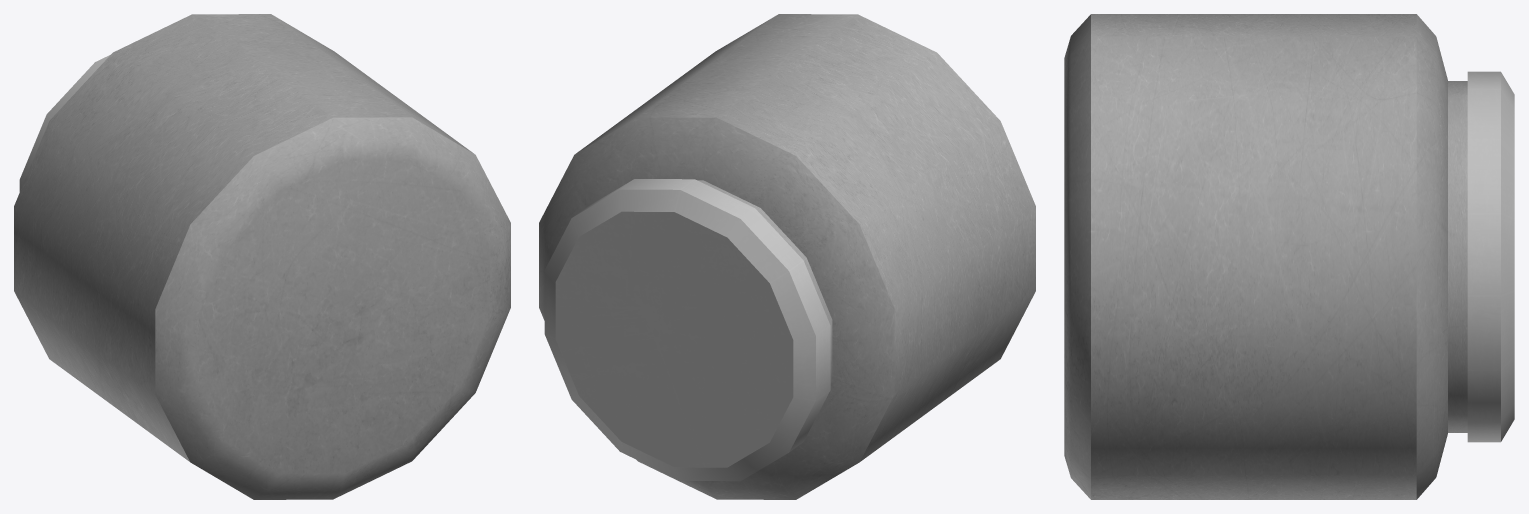
File: Fixed_Item_Bottle Wide2_Ver1.fbx
The picture shows the model from 3 angles, left to right: view 1: azimuth 30°, elevation 25°; view 2: azimuth 150°, elevation 25°; view 3: azimuth 270°, elevation 25°; orthographic projection. The views are drawn at different scales.
Parts seen in each view (by area): view 1: Pill Bottle wide2_body, Pill Bottle wide2_cap; view 2: Pill Bottle wide2_body, Pill Bottle wide2_cap; view 3: Pill Bottle wide2_body, Pill Bottle wide2_cap.
Boxes of the visible parts, box(x1,y1,x2,y2) form: Pill Bottle wide2_body: box(14, 14, 510, 499); Pill Bottle wide2_cap: box(19, 55, 109, 191); Pill Bottle wide2_body: box(539, 14, 1035, 499); Pill Bottle wide2_cap: box(544, 179, 830, 481); Pill Bottle wide2_body: box(1064, 14, 1467, 499); Pill Bottle wide2_cap: box(1467, 71, 1514, 442).
Size of the model in its own units: 174 by 179 by 165.
1 material, 1 textured.
